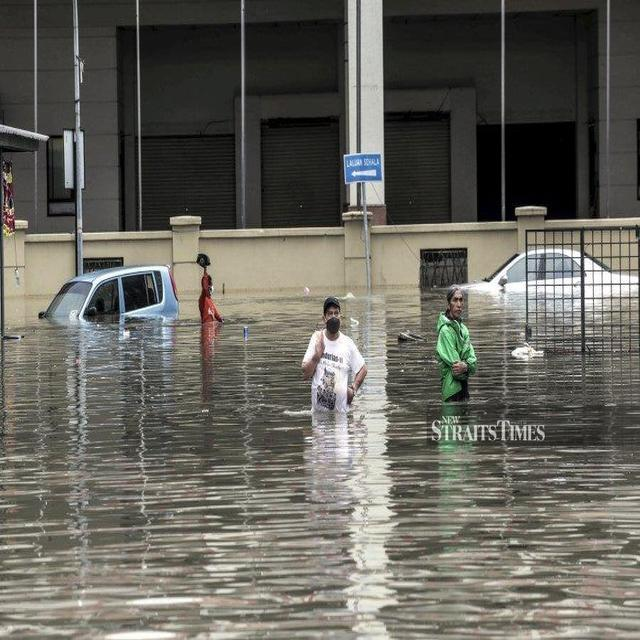Car-RiskLevel3: (448, 235, 640, 313), (38, 257, 188, 340)
Person-RiskLevel3: (283, 290, 385, 420), (423, 288, 477, 407)
